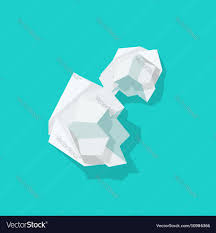crumpled paper: (51, 45, 163, 171)
